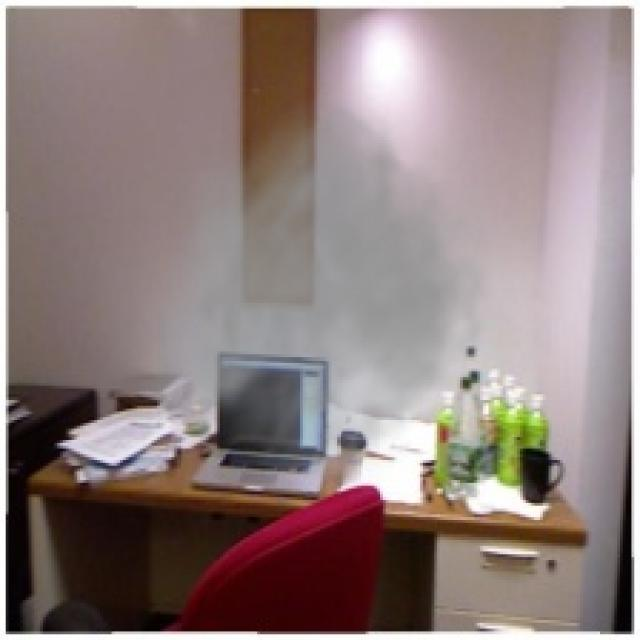Smoke: (157, 83, 532, 506)
